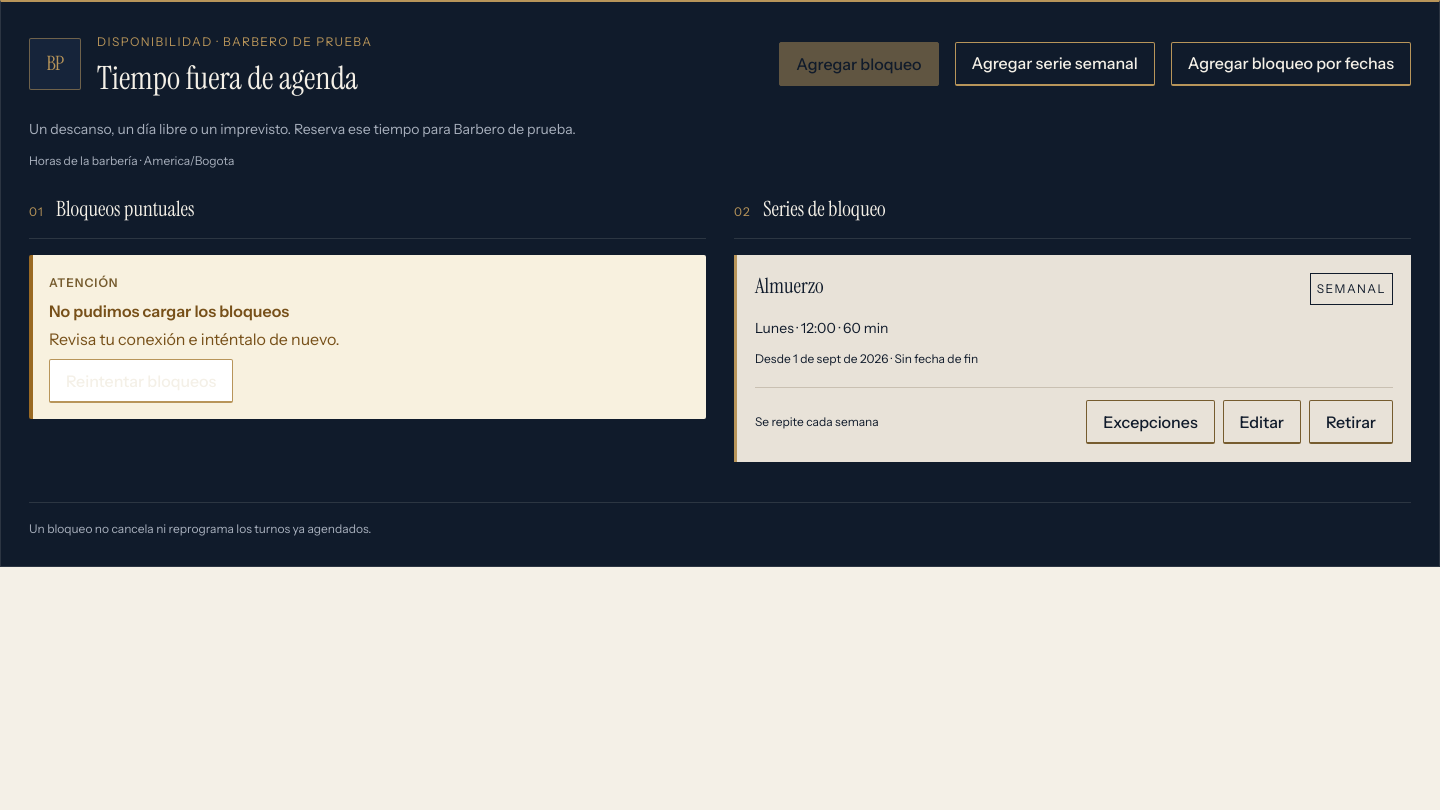
Scenario: BarberBlocksPanel · avisos emergentes (DEC-095) › keeps weekly series visible when loading blocks fails, then retries
Step 1. Click the button "Reintentar bloqueos" → (141, 381), box [49,359,233,403]
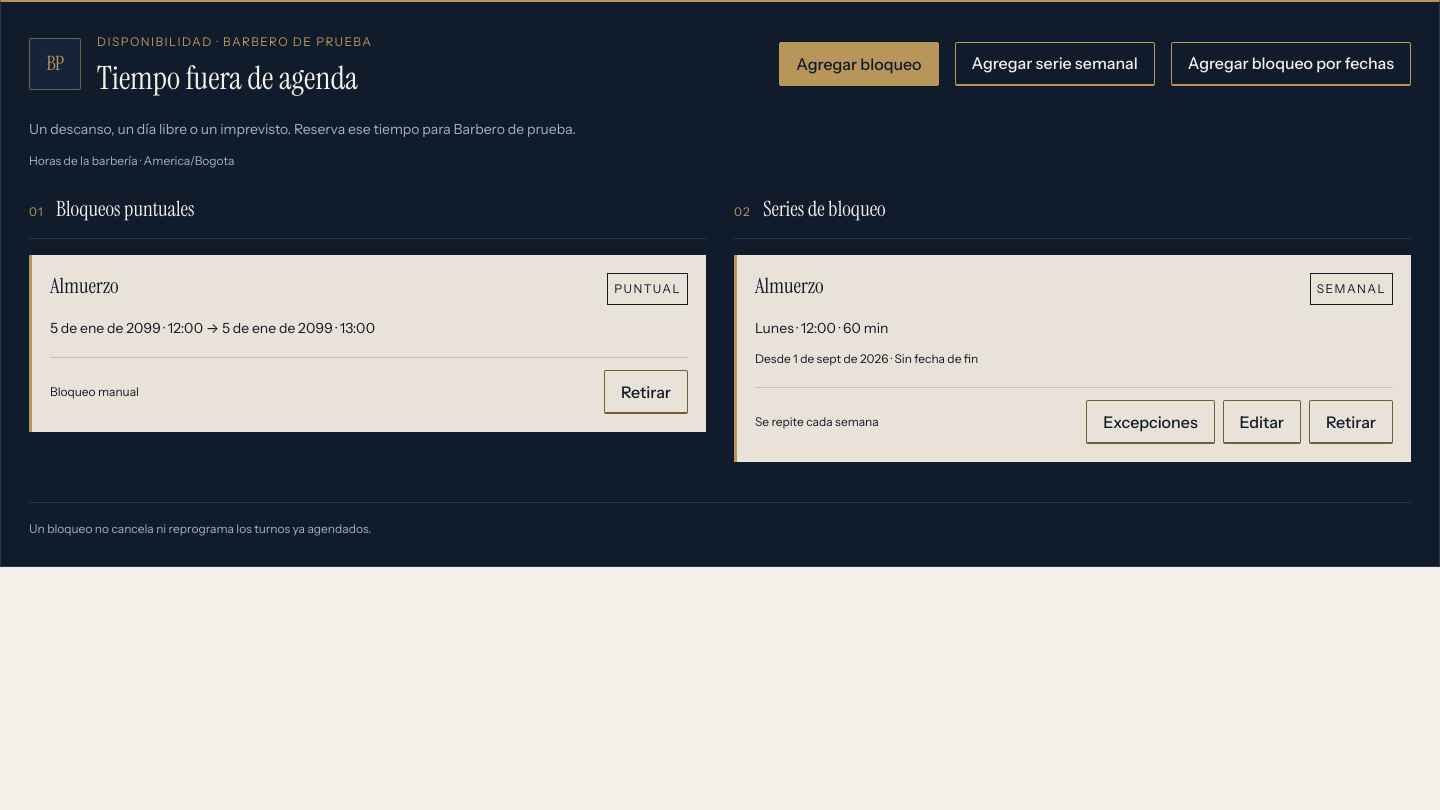
Now the text "No pudimos cargar los bloqueos" is gone
Now the number of list items with class "blocks-panel__record" is 2, box [29,255,706,432]; [734,255,1411,462]
